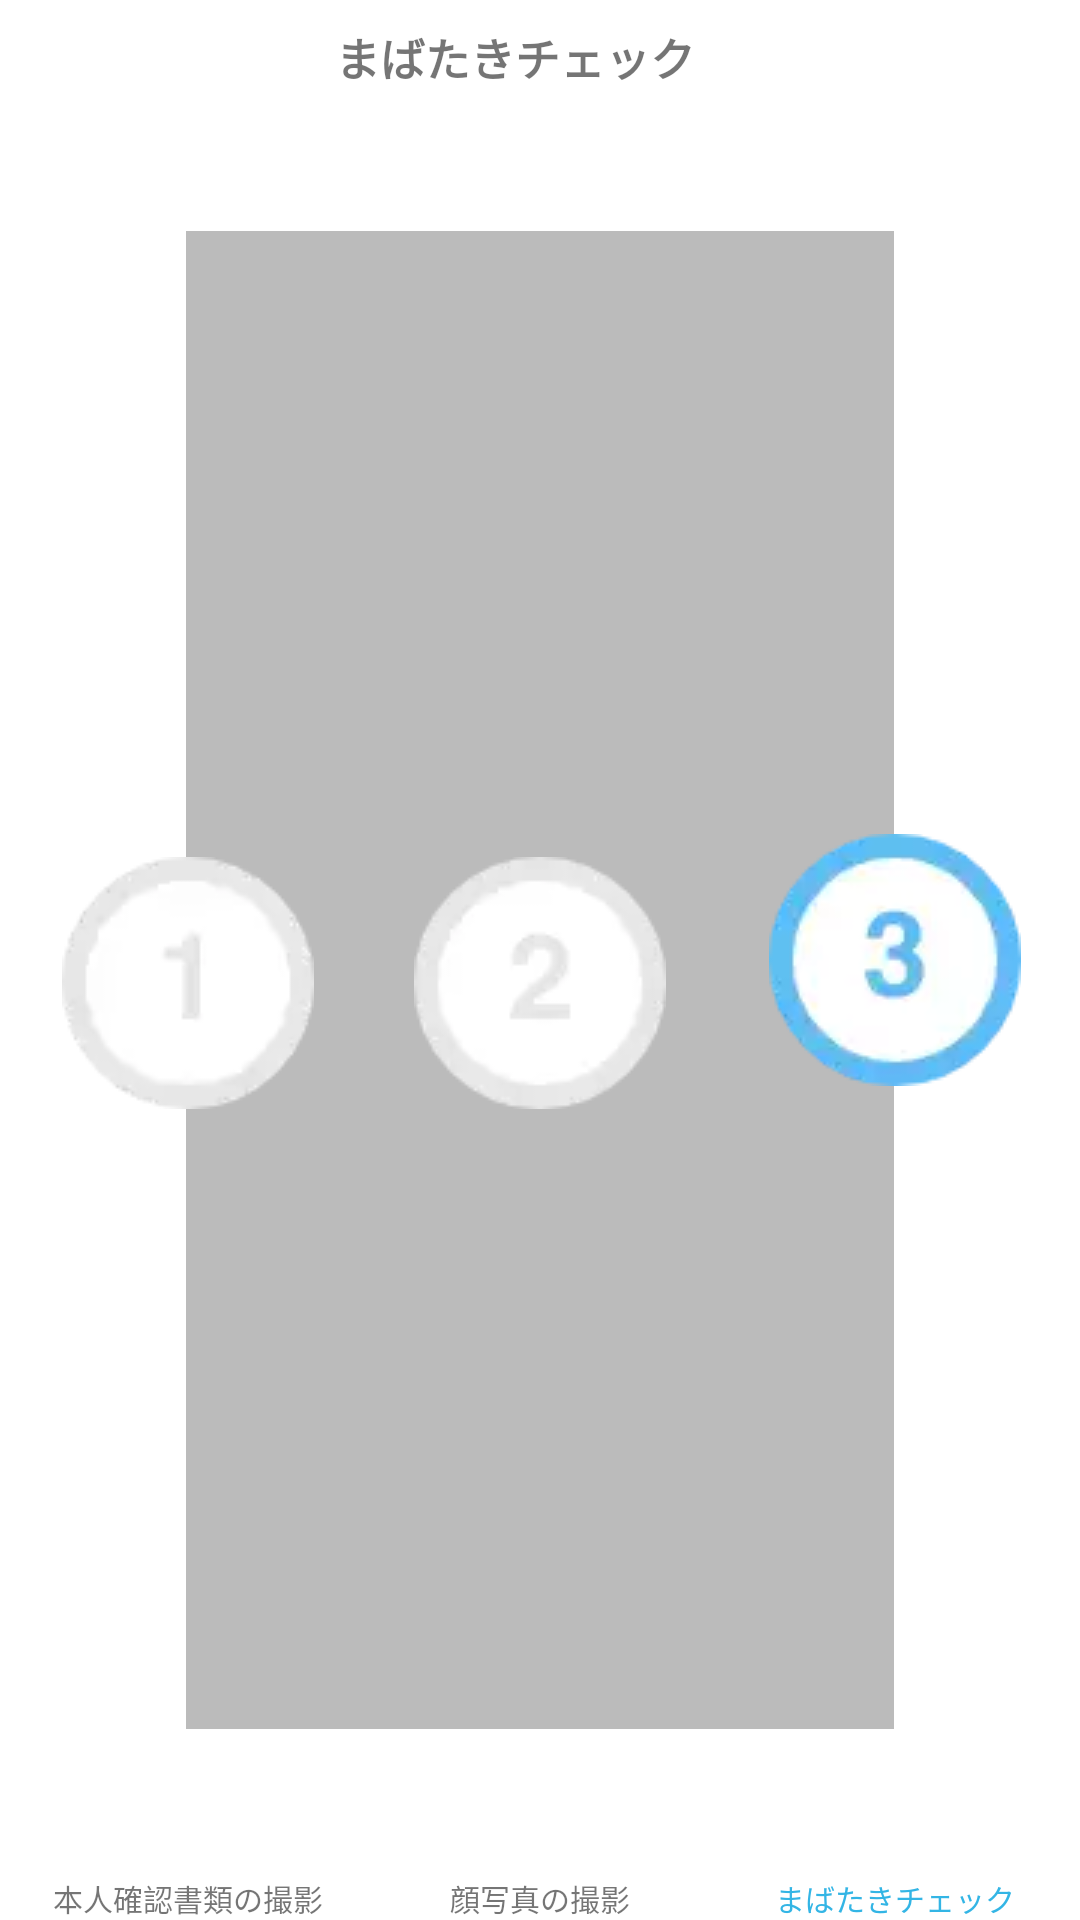

Icons on this 1080 x 1920 Android screen, each with the point to tap as (x,y):
progress: (895,960), (188,983), (540,983)
